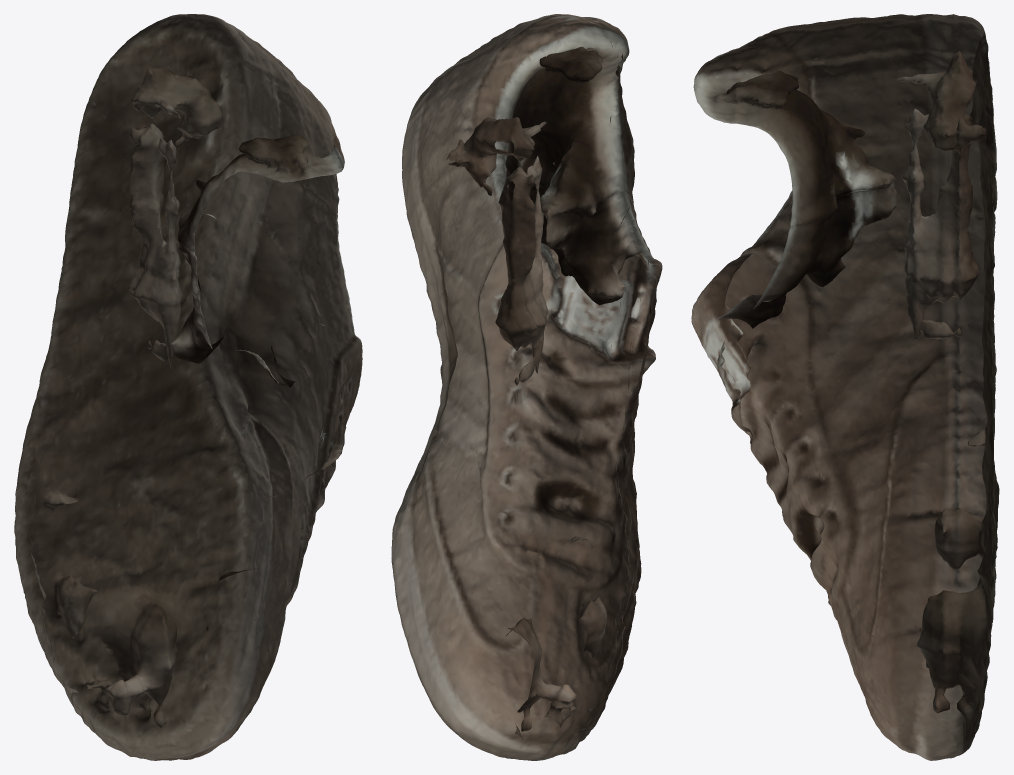
File: shoe3.glb
3 views of the same model, side by side, from view 1: azimuth 30°, elevation 25°; view 2: azimuth 150°, elevation 25°; view 3: azimuth 270°, elevation 25° (orthographic). The views are drawn at different scales.
Bounding box in the file's own units: 0.3557 × 1 × 0.3781.
